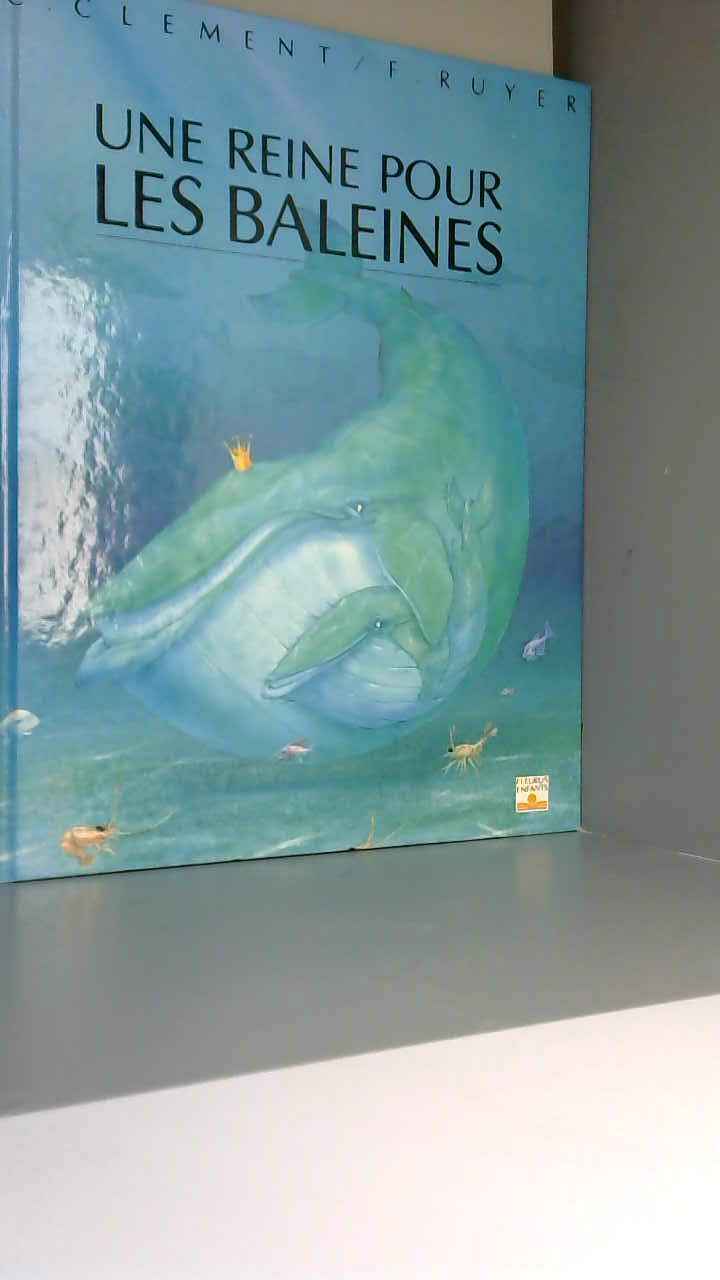book: (0, 0, 625, 921)
